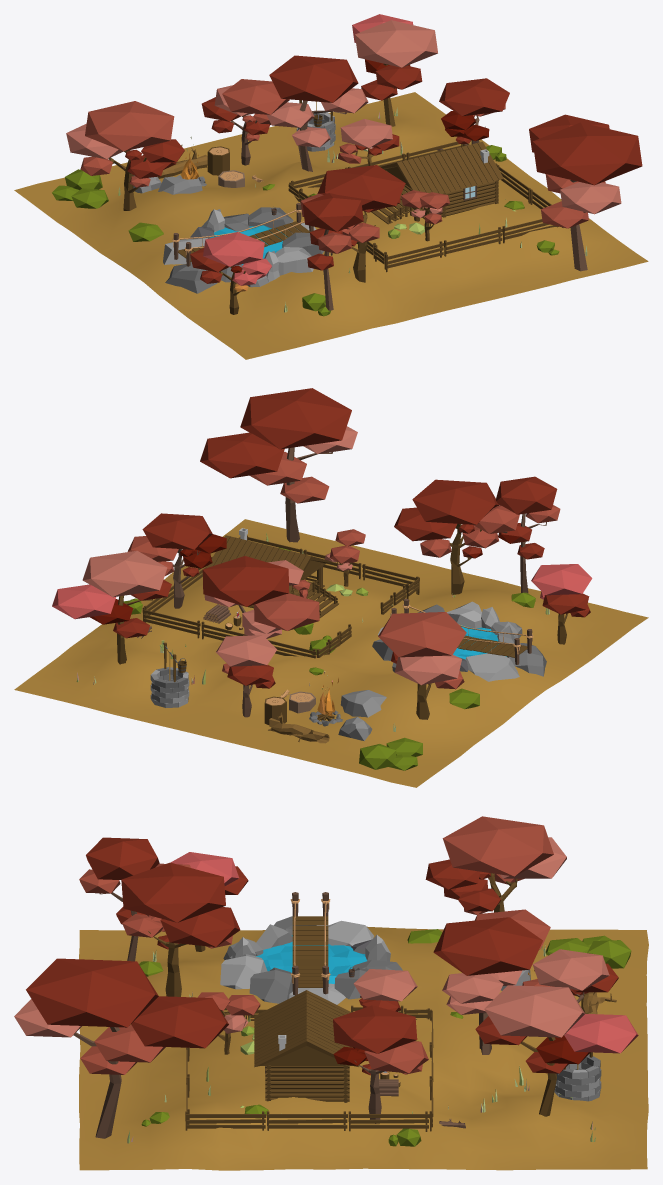
Rendered from Forest_Texture.obj.
3 renders of one model, top to bottom at view 1: azimuth 30°, elevation 25°; view 2: azimuth 150°, elevation 25°; view 3: azimuth 270°, elevation 25°, orthographic. The views are drawn at different scales.
Parts seen in each view (by area): view 1: Cylinder.005_Cylinder.062, Cylinder.005_Cylinder.000; view 2: Cylinder.005_Cylinder.062, Cylinder.005_Cylinder.000; view 3: Cylinder.005_Cylinder.062, Cylinder.005_Cylinder.000.
Boxes of the visible parts, bbox=[...] form: Cylinder.005_Cylinder.062: bbox=[52, 14, 642, 316]; Cylinder.005_Cylinder.000: bbox=[14, 92, 648, 359]; Cylinder.005_Cylinder.062: bbox=[52, 388, 592, 770]; Cylinder.005_Cylinder.000: bbox=[14, 519, 648, 787]; Cylinder.005_Cylinder.062: bbox=[14, 816, 638, 1146]; Cylinder.005_Cylinder.000: bbox=[79, 926, 648, 1170].
Bounding box in the file's own units: 40.11 × 14.95 × 44.68.
1 material, 1 textured.
